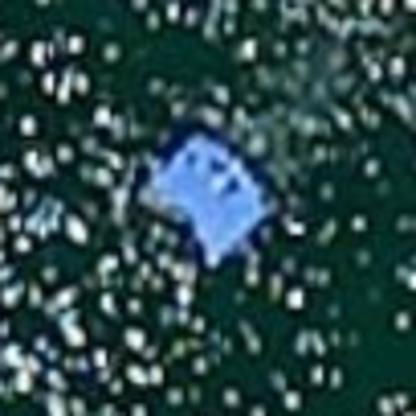ship: (128, 123, 285, 271)
